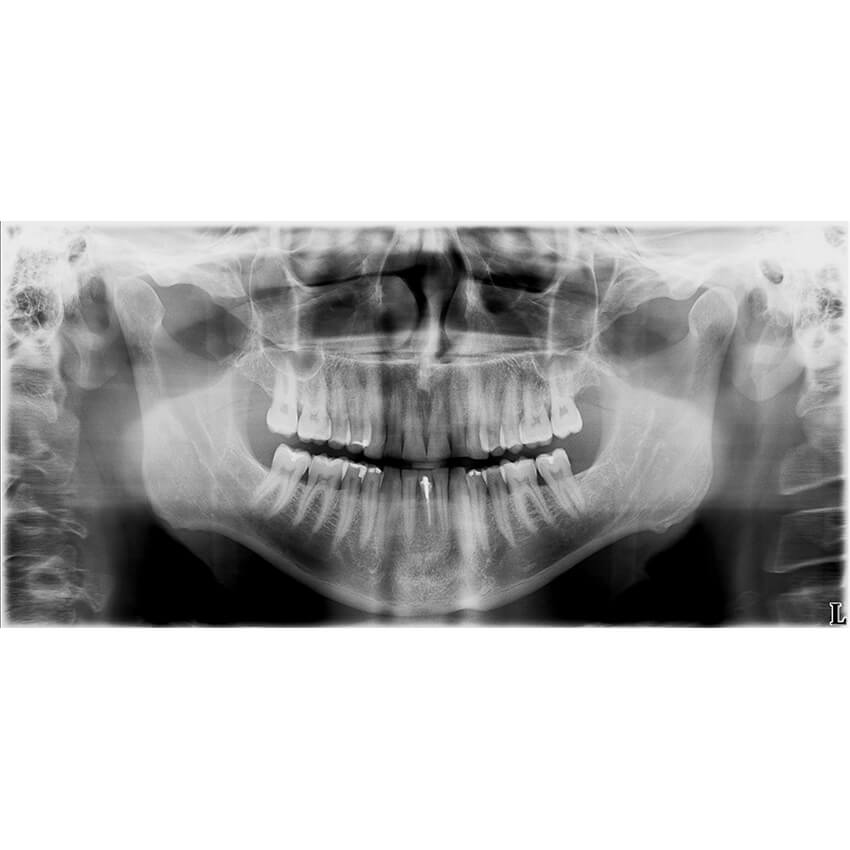canine: (359, 463, 384, 567), (461, 368, 488, 462), (448, 462, 471, 565), (362, 372, 386, 463)
incisor: (424, 384, 450, 463), (444, 379, 469, 459), (378, 461, 398, 560), (382, 372, 402, 463), (401, 387, 425, 462), (400, 467, 420, 554), (417, 466, 435, 546), (432, 466, 451, 540)
molar: (248, 440, 313, 541), (299, 454, 353, 540), (500, 460, 561, 536), (531, 448, 593, 518), (543, 365, 588, 445), (262, 354, 301, 436), (296, 365, 332, 445), (520, 373, 553, 450)
premolar: (482, 463, 518, 549), (461, 461, 492, 554), (337, 461, 365, 556), (323, 365, 351, 452), (480, 374, 506, 459), (495, 376, 522, 451), (345, 375, 369, 453)
